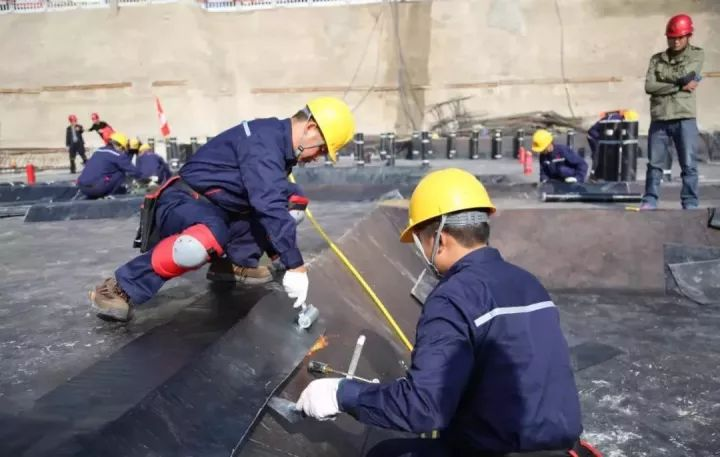safetyhat: (110, 85, 360, 340), (375, 150, 582, 457)
